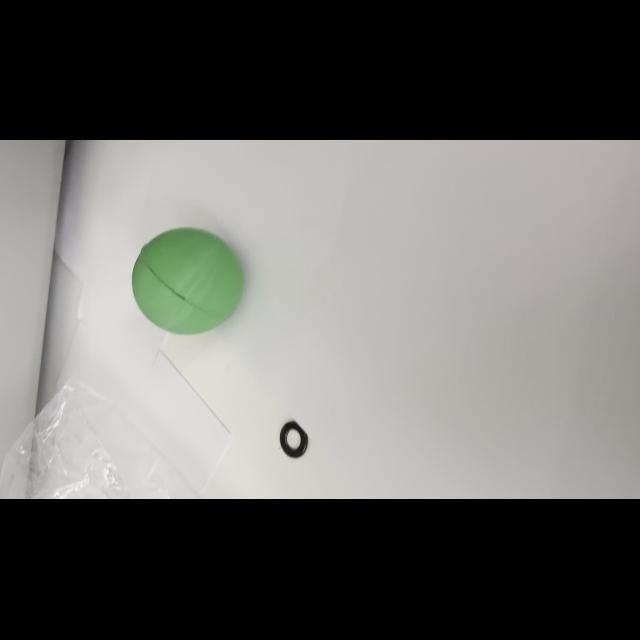objects: (126, 224, 246, 346)
